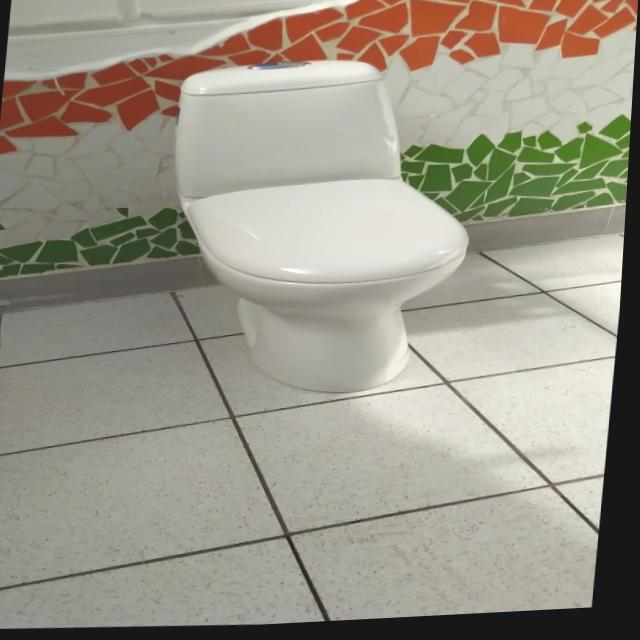toilet: (154, 50, 489, 408)
